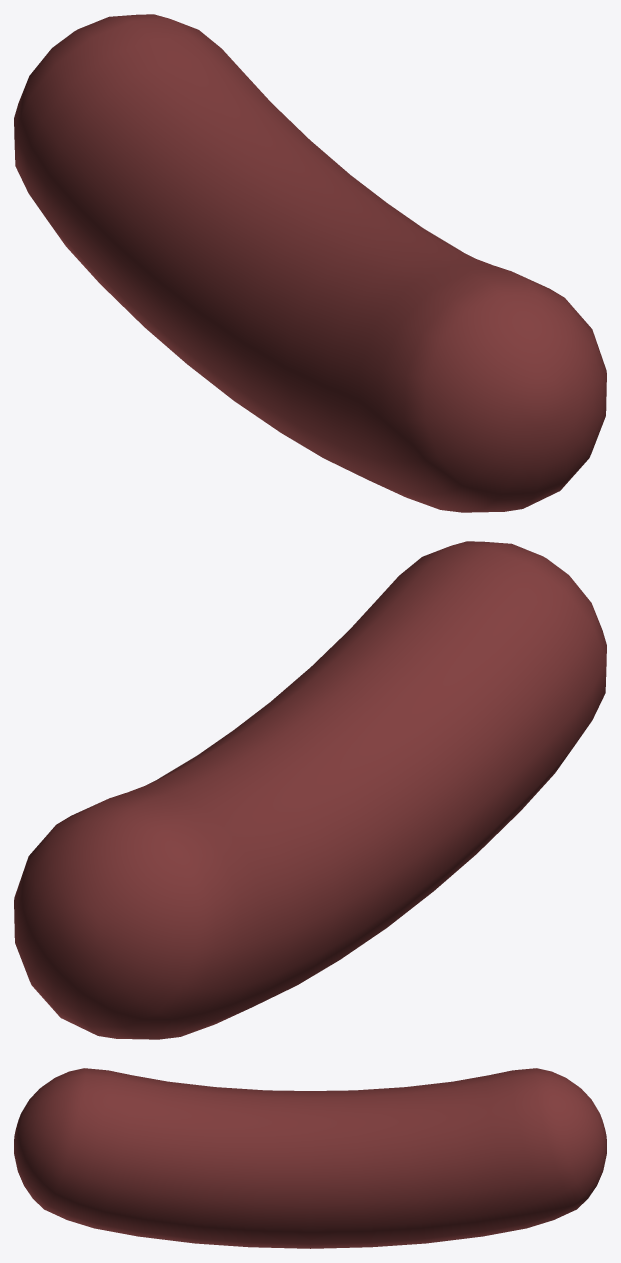
File: sausage.fbx
The picture shows the model from 3 angles, top to bottom: view 1: azimuth 30°, elevation 25°; view 2: azimuth 150°, elevation 25°; view 3: azimuth 270°, elevation 25°; orthographic projection. The views are drawn at different scales.
Parts seen in each view (by area): view 1: pSphere1; view 2: pSphere1; view 3: pSphere1.
Boxes of the visible parts, <box> form: pSphere1: <box>14,14,606,512</box>; pSphere1: <box>14,541,606,1039</box>; pSphere1: <box>14,1068,606,1248</box>.
Bounding box in the file's own units: 9.92 × 11.53 × 37.26.
